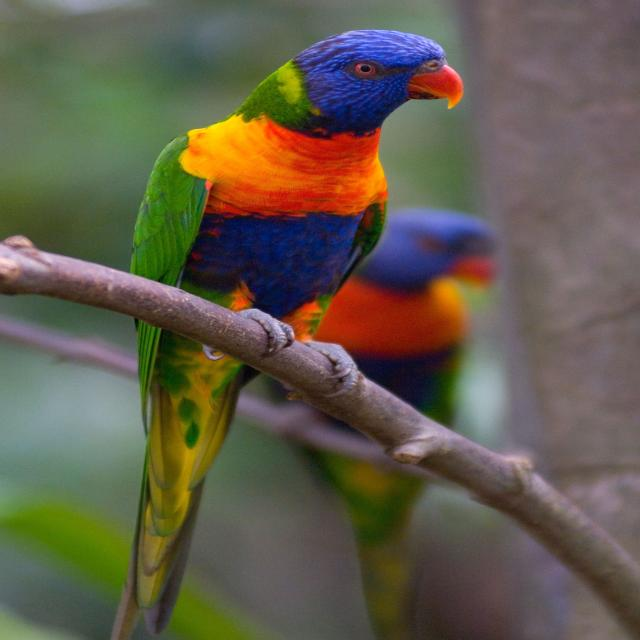Parrot: (108, 27, 471, 640)
